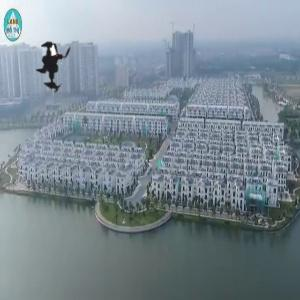drone: (18, 28, 96, 106)
